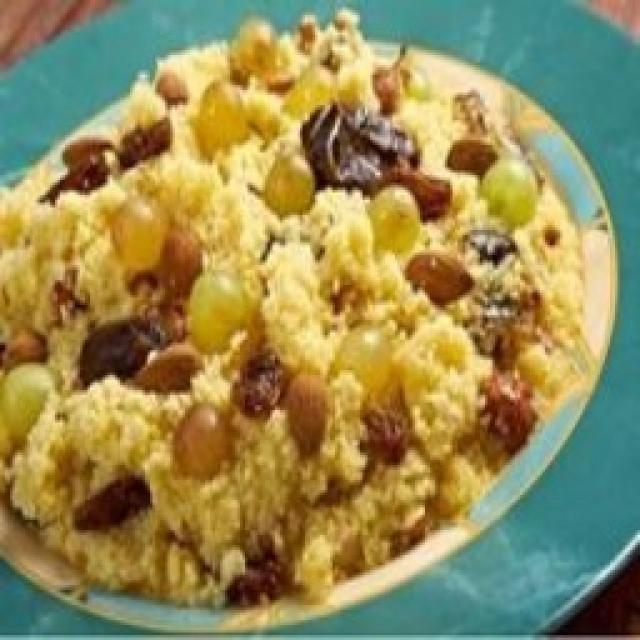Couscous: (0, 10, 612, 631)
